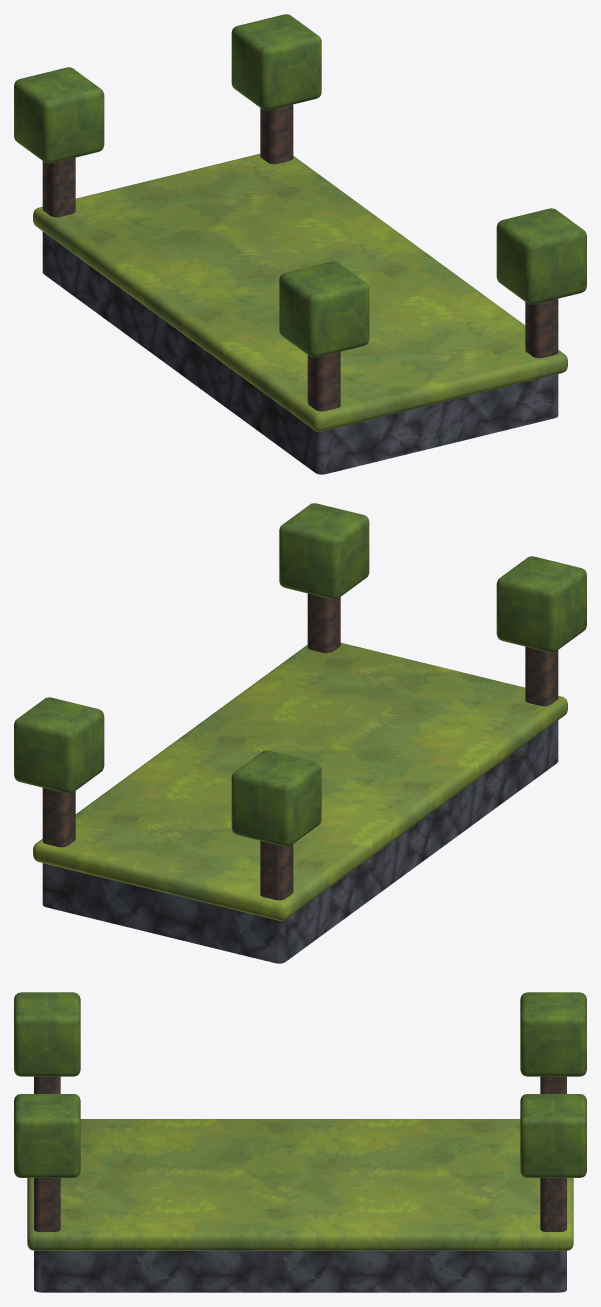
The model's file is GroundLevel.fbx.
3 renders of one model, top to bottom at view 1: azimuth 30°, elevation 25°; view 2: azimuth 150°, elevation 25°; view 3: azimuth 270°, elevation 25°, orthographic. The views are drawn at different scales.
Visible parts, largest first — view 1: GroundLevel; view 2: GroundLevel; view 3: GroundLevel.
Boxes of the visible parts, box(x1,y1,x2,y2) form: GroundLevel: box(14, 14, 586, 474); GroundLevel: box(14, 503, 586, 963); GroundLevel: box(14, 992, 586, 1292).
Bounding box in the file's own units: 920 × 600 × 1720.
